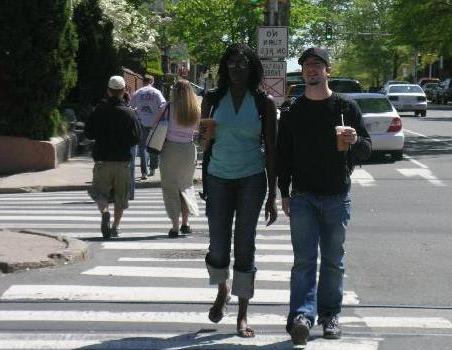pedestrian: (277, 47, 371, 346), (199, 44, 278, 337), (84, 76, 143, 240), (145, 80, 201, 237)
